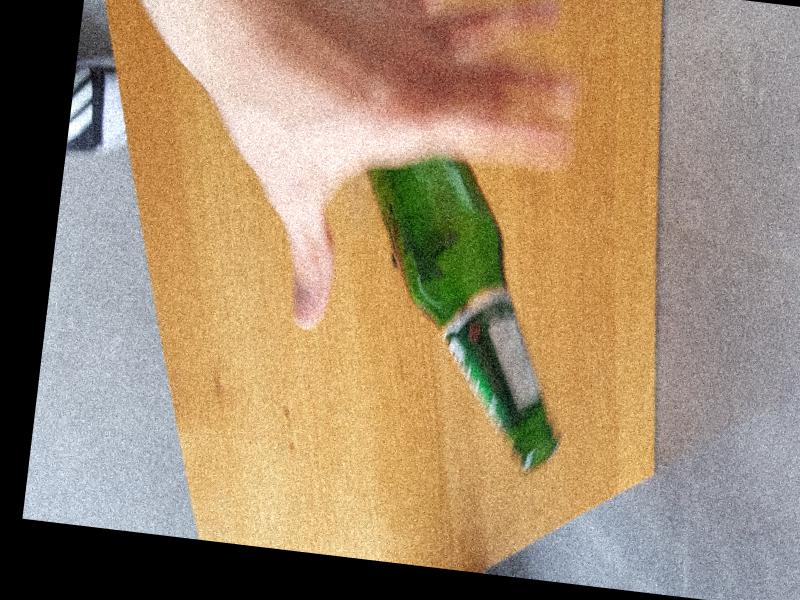Beer: (331, 150, 590, 476)
